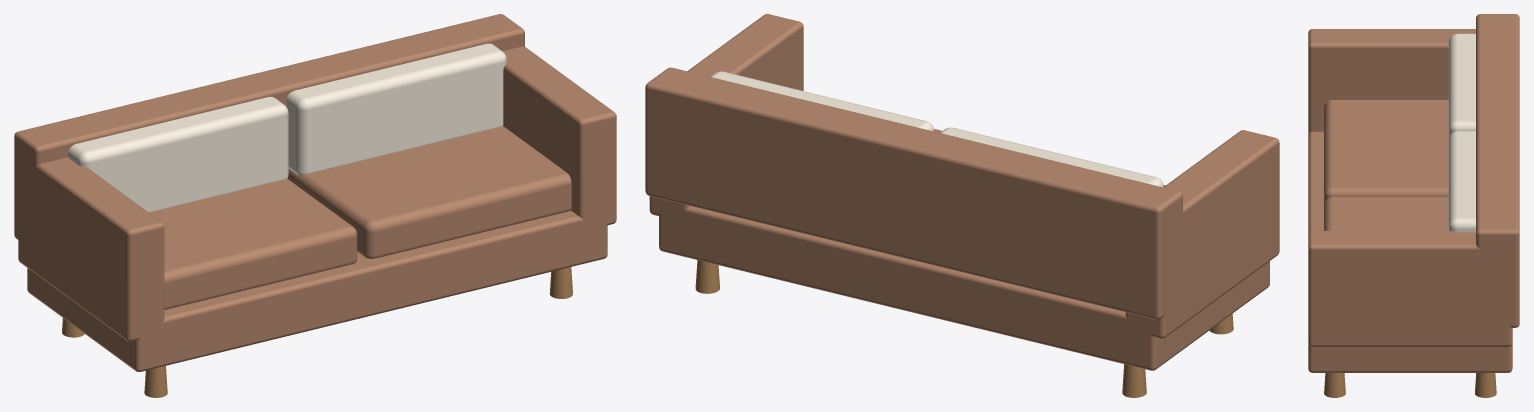
File: sofa.glb
The picture shows the model from 3 angles, left to right: view 1: azimuth 30°, elevation 25°; view 2: azimuth 150°, elevation 25°; view 3: azimuth 270°, elevation 25°; orthographic projection. The views are drawn at different scales.
Parts seen in each view (by area): view 1: poc-sofa-part-1, poc-sofa-part-7, poc-sofa-part-8, poc-sofa-part-3, poc-sofa-part-5, poc-sofa-part-2, poc-sofa-part-6, poc-sofa-part-4, poc-sofa-part-10, poc-sofa-part-12; view 2: poc-sofa-part-2, poc-sofa-part-1, poc-sofa-part-3, poc-sofa-part-4, poc-sofa-part-8, poc-sofa-part-6, poc-sofa-part-9, poc-sofa-part-11; view 3: poc-sofa-part-4, poc-sofa-part-2, poc-sofa-part-5, poc-sofa-part-3, poc-sofa-part-1, poc-sofa-part-7, poc-sofa-part-8, poc-sofa-part-6, poc-sofa-part-11, poc-sofa-part-12.
Part boxes in pixels (x1,y1,x2,y2): poc-sofa-part-1: (27,211,607,371); poc-sofa-part-7: (288,126,571,258); poc-sofa-part-8: (286,43,506,175); poc-sofa-part-3: (18,157,164,341); poc-sofa-part-5: (149,179,357,309); poc-sofa-part-2: (14,14,524,249); poc-sofa-part-6: (68,96,288,212); poc-sofa-part-4: (503,46,616,228); poc-sofa-part-10: (144,366,167,397); poc-sofa-part-12: (549,267,572,298); poc-sofa-part-2: (645,67,1182,319); poc-sofa-part-1: (659,206,1269,370); poc-sofa-part-3: (1125,130,1279,338); poc-sofa-part-4: (649,14,803,219); poc-sofa-part-8: (710,71,933,131); poc-sofa-part-6: (940,127,1163,187); poc-sofa-part-9: (1122,364,1146,397); poc-sofa-part-11: (695,260,719,293); poc-sofa-part-4: (1308,230,1512,346); poc-sofa-part-2: (1476,14,1519,327); poc-sofa-part-5: (1324,100,1448,203); poc-sofa-part-3: (1308,29,1475,132); poc-sofa-part-1: (1308,131,1512,372); poc-sofa-part-7: (1324,196,1448,230); poc-sofa-part-8: (1448,131,1475,232); poc-sofa-part-6: (1448,33,1475,138); poc-sofa-part-11: (1475,373,1496,397); poc-sofa-part-12: (1324,373,1345,397).
Bounding box in the file's own units: 2.2 × 0.85 × 0.9.
